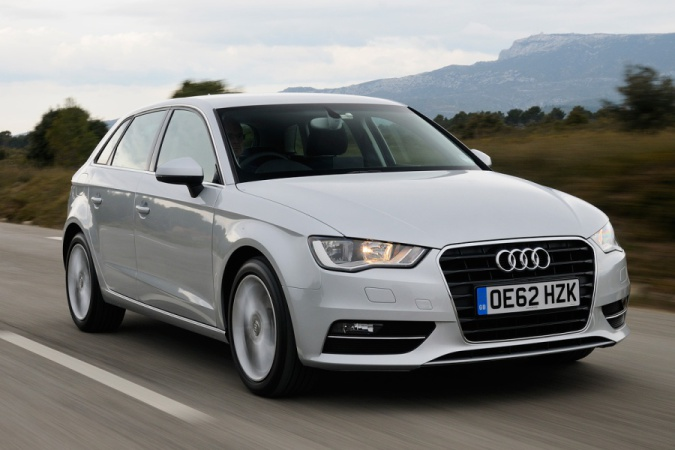audi: (487, 243, 556, 276)
